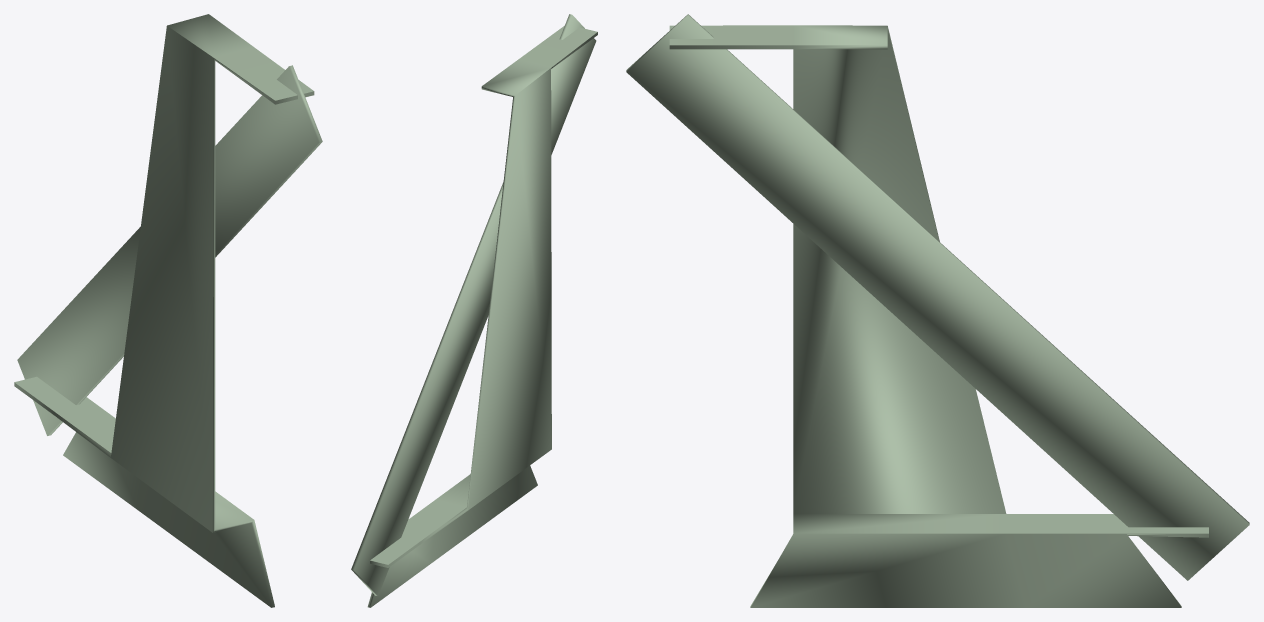
The model's file is BoxPartical4.fbx.
The picture shows the model from 3 angles, left to right: view 1: azimuth 30°, elevation 25°; view 2: azimuth 150°, elevation 25°; view 3: azimuth 270°, elevation 25°; orthographic projection. The views are drawn at different scales.
Visible parts, largest first — view 1: crate_02; view 2: crate_02; view 3: crate_02.
Boxes of the visible parts, box(x1,y1,x2,y2) form: crate_02: box(14, 14, 322, 607); crate_02: box(351, 14, 597, 607); crate_02: box(626, 14, 1249, 607).
Bounding box in the file's own units: 0.1113 × 1.44 × 1.39.
